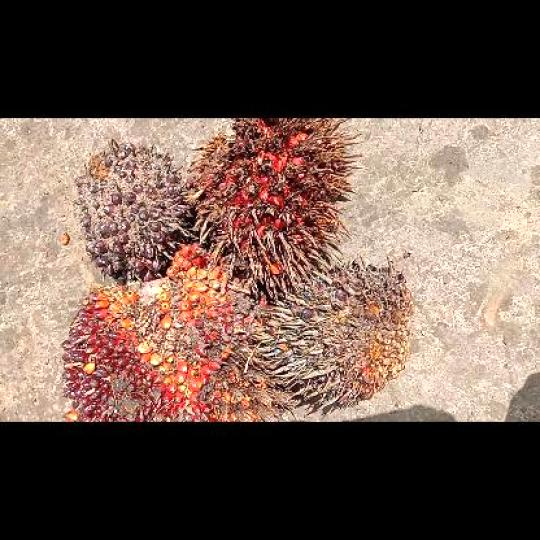kurang masak: (74, 139, 193, 279)
masak: (58, 243, 274, 421)
terlalu masak: (186, 118, 364, 288)
